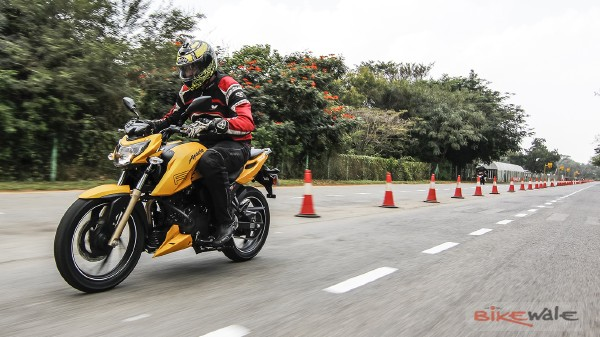helmet: (174, 40, 221, 90)
